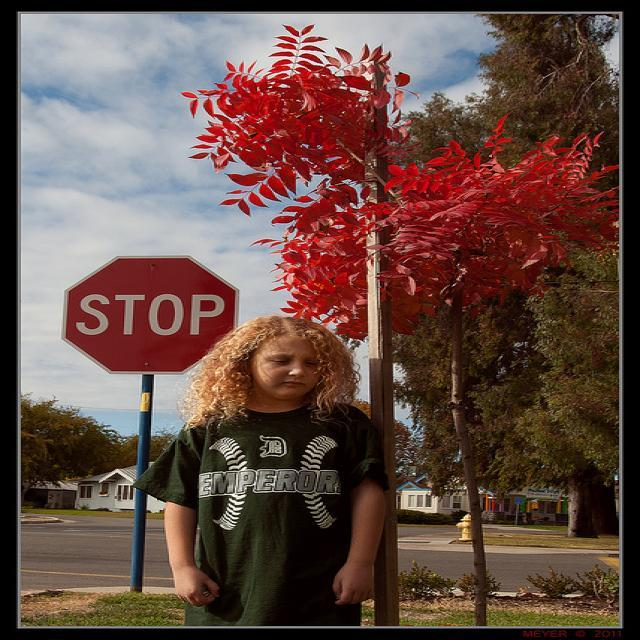fire_hydrant: (456, 513, 473, 541)
